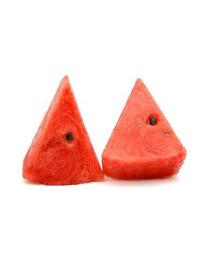watermelon: (18, 72, 188, 183)
